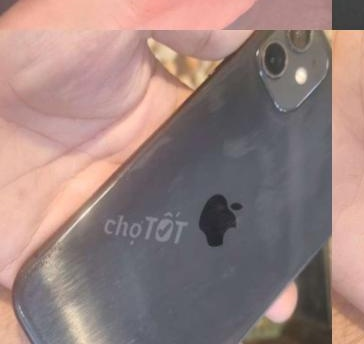scratch: (271, 96, 300, 117), (252, 39, 265, 61), (255, 65, 267, 79)
